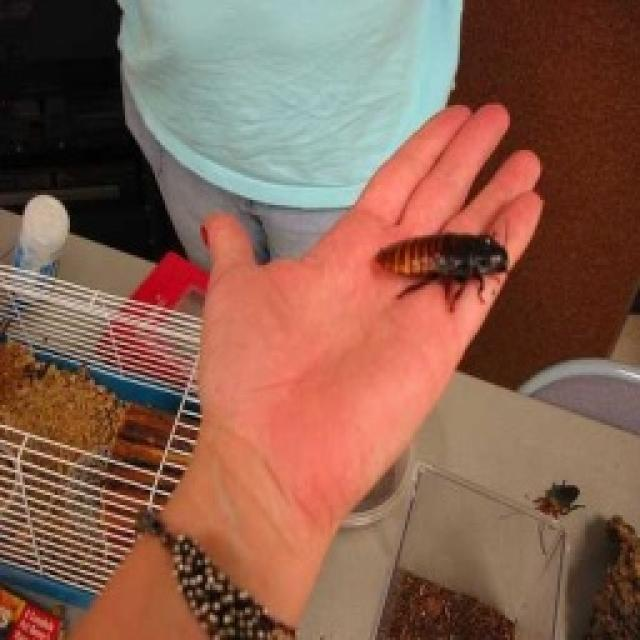cockroach: (372, 227, 513, 315)
